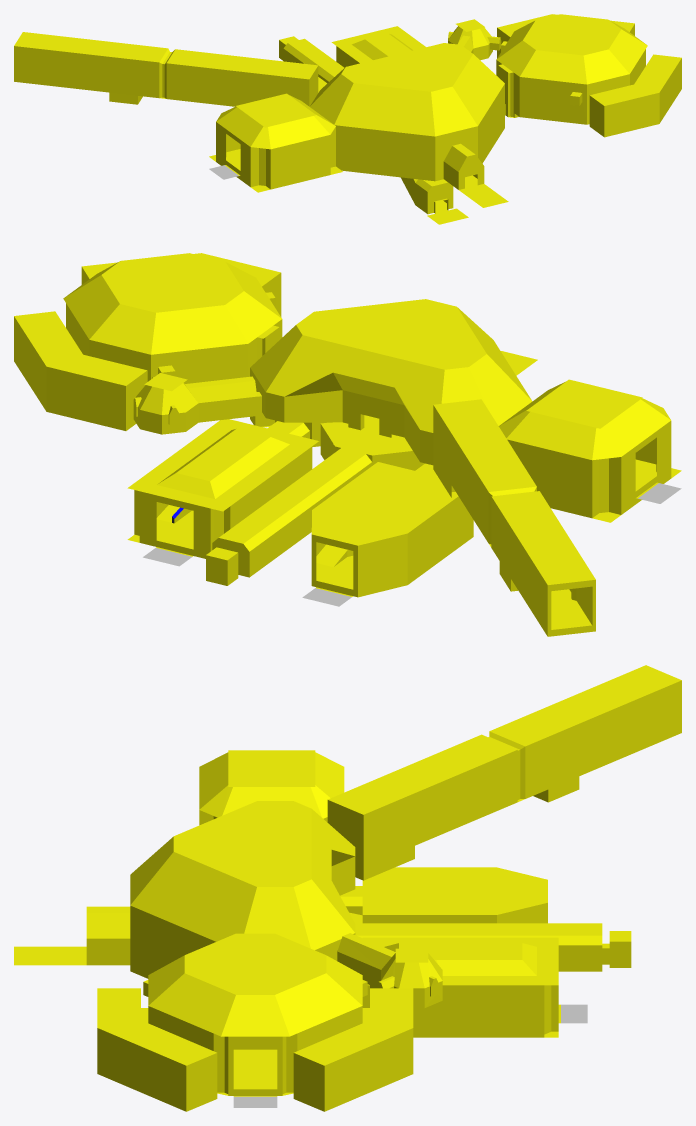
File: inside_castle_segment7.0x68B88.collision.obj
The picture shows the model from 3 angles, top to bottom: view 1: azimuth 30°, elevation 25°; view 2: azimuth 150°, elevation 25°; view 3: azimuth 270°, elevation 25°; orthographic projection. The views are drawn at different scales.
Parts seen in each view (by area): view 1: inside_castle_segment7_68B88_normal; view 2: inside_castle_segment7_68B88_normal; view 3: inside_castle_segment7_68B88_normal.
Boxes of the visible parts, x1,y1,x2,y2 form: inside_castle_segment7_68B88_normal: [14, 14, 681, 224]; inside_castle_segment7_68B88_normal: [14, 253, 681, 636]; inside_castle_segment7_68B88_normal: [14, 665, 681, 1111].
Size of the model in its own units: 11.98 by 2.75 by 9.2.
